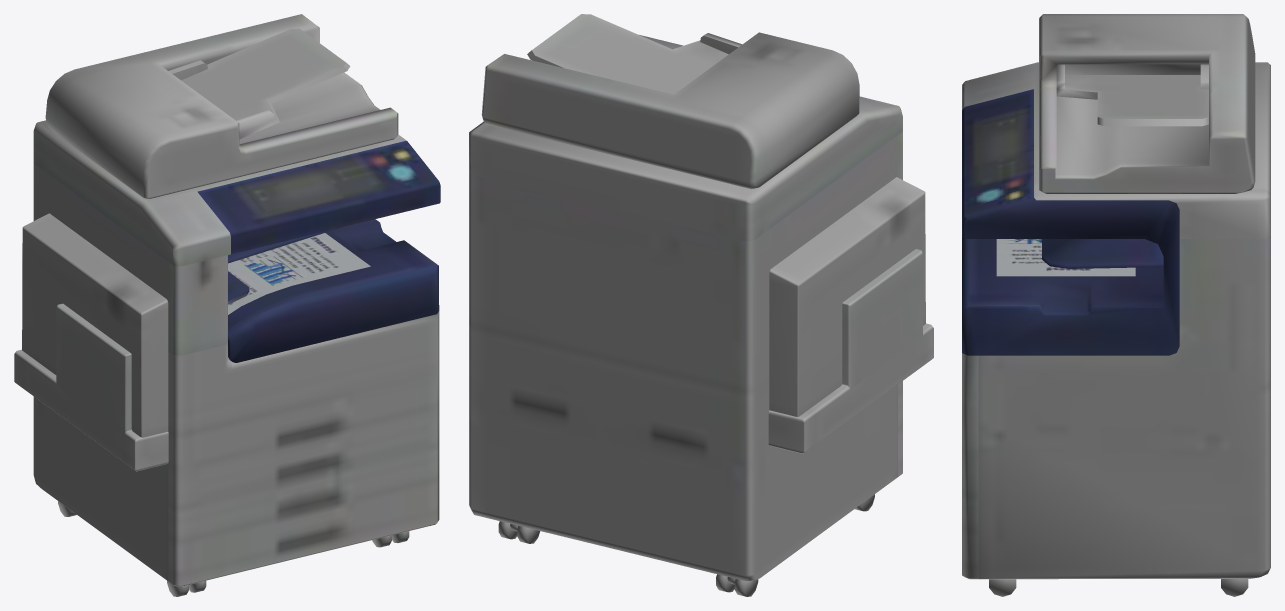
3 views of the same model, side by side, from view 1: azimuth 30°, elevation 25°; view 2: azimuth 150°, elevation 25°; view 3: azimuth 270°, elevation 25° (orthographic). The views are drawn at different scales.
Size of the model in its own units: 9 by 12.77 by 7.55.
2 materials, 2 textured.
